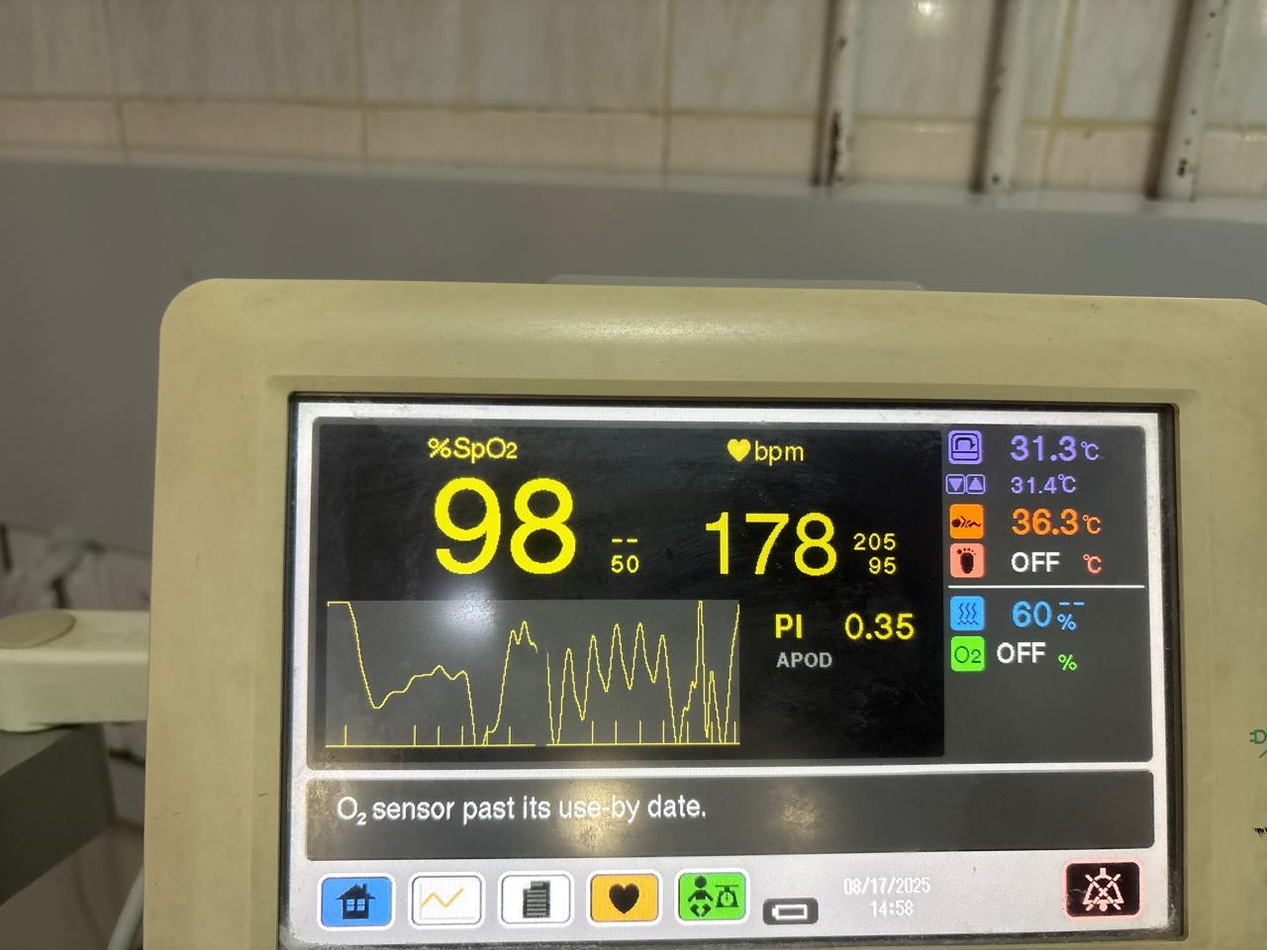air_temp_value: (989, 425, 1080, 474)
heart_rate_value: (689, 494, 850, 587)
humidity_value: (997, 587, 1058, 637)
skin_temp_value: (997, 494, 1082, 542)
spo2_value: (417, 468, 588, 583)
